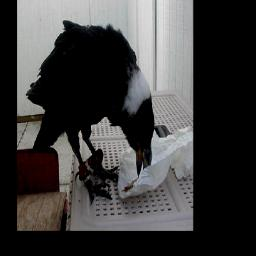Crow: (25, 19, 157, 205)
